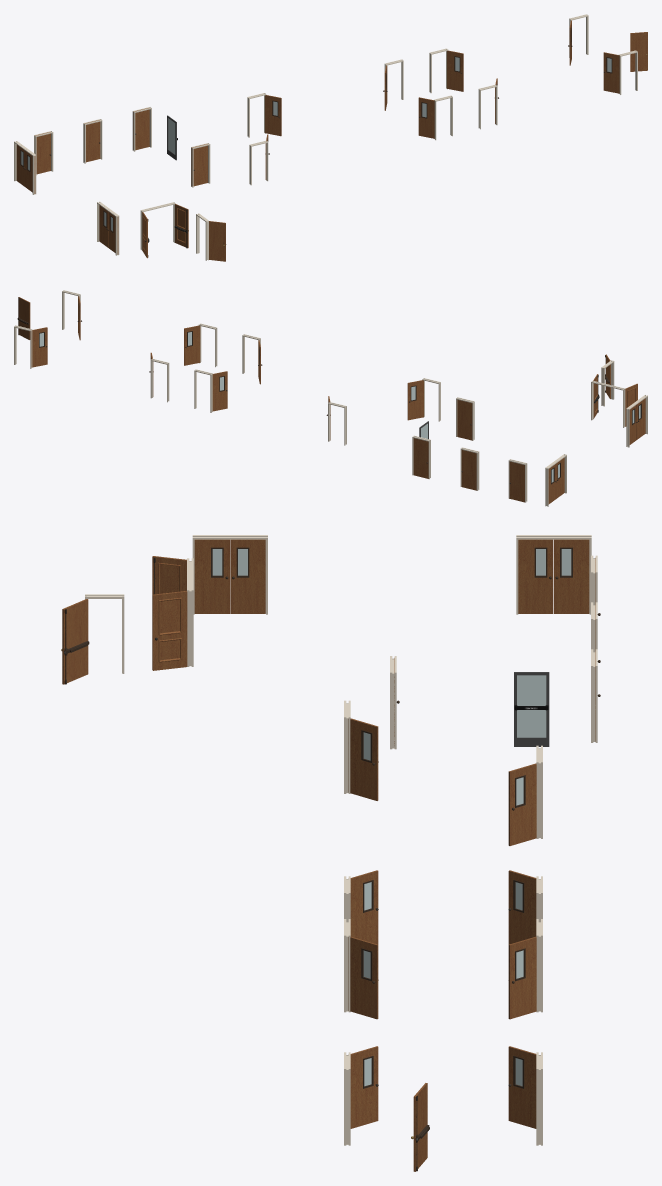
Rendered from COBA 2nd Floor Doors.fbx.
The picture shows the model from 3 angles, top to bottom: view 1: azimuth 30°, elevation 25°; view 2: azimuth 150°, elevation 25°; view 3: azimuth 270°, elevation 25°; orthographic projection. The views are drawn at different scales.
Parts seen in each view (by area): view 1: o_2_floor_stairs_door_inside, o_212_door.001, o_3_floor_stairs_door_outside.001, o_218_left_door, o_215_left_door, o_216_left_door, o_212_door, o_217_left_door, o_211_door, o_210_door, o_2_floor_large_door_right, o_201_right_set_doorway (+1 smaller); view 2: o_215_right_door, o_212_door.001, o_211_door, o_212_door, o_210_door, o_217_right_door, o_218_right_door, o_216_right_door, o_3_floor_stairs_door_outside.001, o_201_right_set_doorway, o_201_left_set_left_door, o_201_left_set_doorway (+2 smaller); view 3: o_2_floor_large_door_right, o_201_right_set_right_door, o_201_left_set_left_door, o_201_left_set_right_door, o_201_right_set_left_door, o_215_right_door, o_217_right_door, o_218_left_door, o_216_left_door, o_218_right_door, o_217_left_door, o_2_floor_stairs_door_inside (+6 smaller).
Boxes of the visible parts, x1,y1,x2,y2 form: o_2_floor_stairs_door_inside: (209, 221, 225, 261); o_212_door.001: (191, 144, 207, 186); o_3_floor_stairs_door_outside.001: (630, 32, 647, 71); o_218_left_door: (447, 50, 463, 91); o_215_left_door: (418, 97, 434, 138); o_216_left_door: (265, 95, 281, 136); o_212_door: (133, 108, 149, 150); o_217_left_door: (603, 52, 619, 93); o_211_door: (35, 132, 50, 174); o_210_door: (84, 120, 100, 162); o_2_floor_large_door_right: (174, 204, 188, 248); o_201_right_set_doorway: (14, 141, 36, 194); o_215_right_door: (407, 380, 423, 420); o_212_door.001: (457, 399, 472, 440); o_211_door: (509, 461, 524, 502); o_212_door: (413, 438, 428, 478); o_210_door: (461, 450, 476, 490); o_217_right_door: (184, 325, 200, 365); o_218_right_door: (31, 327, 47, 367); o_216_right_door: (212, 371, 227, 411); o_3_floor_stairs_door_outside.001: (18, 297, 30, 339); o_201_right_set_doorway: (545, 454, 566, 506); o_201_left_set_left_door: (636, 398, 645, 439); o_201_left_set_doorway: (626, 395, 647, 447); o_2_floor_large_door_right: (152, 591, 187, 670); o_201_right_set_right_door: (554, 539, 589, 613); o_201_left_set_left_door: (194, 539, 229, 613); o_201_left_set_right_door: (230, 539, 265, 613); o_201_right_set_left_door: (518, 539, 553, 613); o_215_right_door: (348, 718, 378, 800); o_217_right_door: (348, 936, 378, 1019); o_218_left_door: (508, 936, 536, 1019); o_216_left_door: (508, 763, 536, 845); o_218_right_door: (508, 1046, 536, 1128); o_217_left_door: (350, 1046, 378, 1128); o_2_floor_stairs_door_inside: (61, 599, 88, 684).
Size of the model in its own units: 3399 by 219 by 1383.
